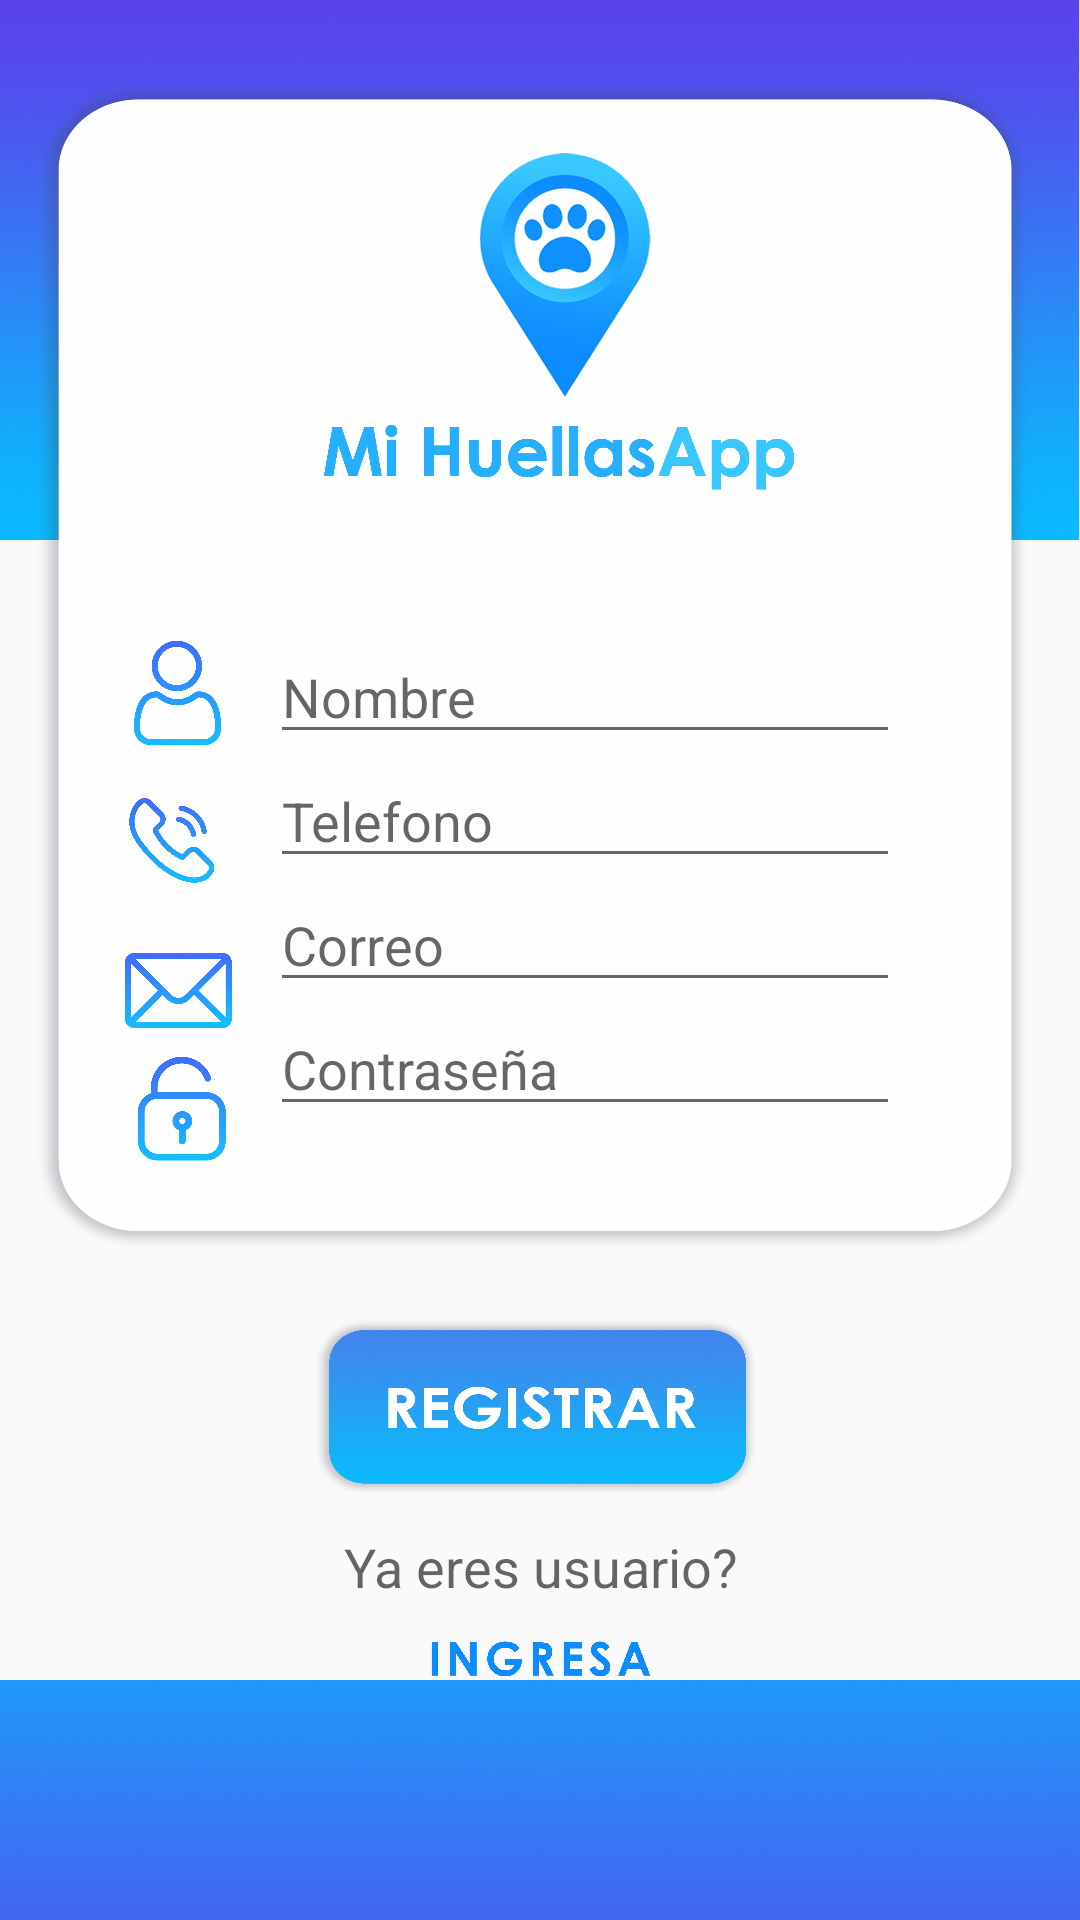

Where icons sit on this 1080px x 1920px app screen, as (x1, y1, x2, y2):
contrasena: (138, 1057, 226, 1161)
mail: (125, 953, 232, 1028)
usuario: (134, 641, 221, 745)
